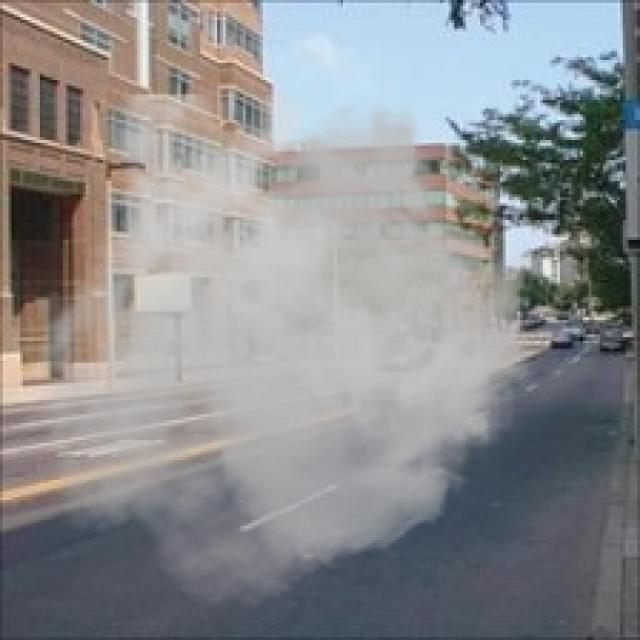smoke: (20, 94, 546, 609)
